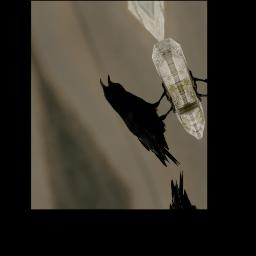Crow: (98, 53, 196, 185)
